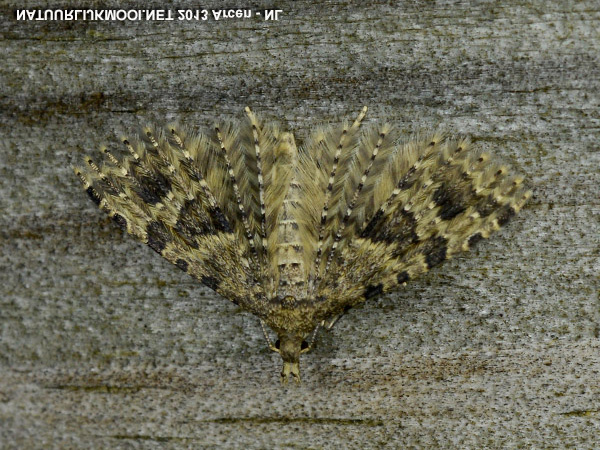Alucitidae: (64, 89, 533, 384)
moth: (66, 91, 535, 386)
